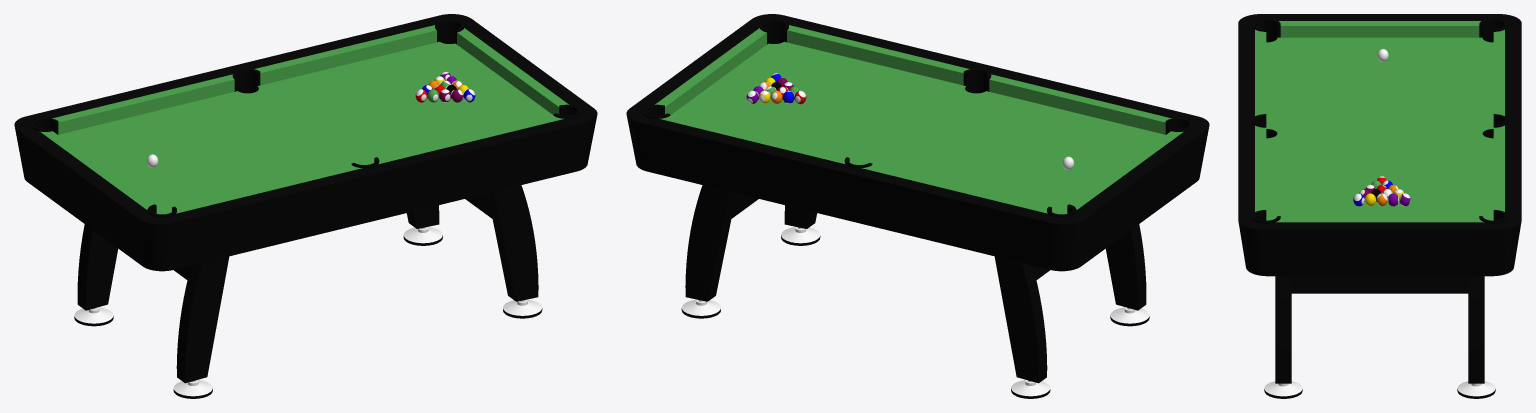
The model's file is pool-table-6ft.glb.
The picture shows the model from 3 angles, left to right: view 1: azimuth 30°, elevation 25°; view 2: azimuth 150°, elevation 25°; view 3: azimuth 270°, elevation 25°; orthographic projection. The views are drawn at different scales.
Visible parts, largest first — view 1: Mesh45 Group1 Model, Mesh3 Group3 Group1 Model, Mesh7 Group5 Group1 Model, Mesh1 Group2 Group1 Model, Mesh18 patte2 Group1 Model, Mesh36 patte4 Group1 Model, Mesh27 patte3 Group1 Model, Mesh9 patte1 Group1 Model, Mesh5 Group4 Group1 Model; view 2: Mesh45 Group1 Model, Mesh1 Group2 Group1 Model, Mesh5 Group4 Group1 Model, Mesh3 Group3 Group1 Model, Mesh36 patte4 Group1 Model, Mesh18 patte2 Group1 Model, Mesh9 patte1 Group1 Model, Mesh27 patte3 Group1 Model, Mesh7 Group5 Group1 Model; view 3: Mesh45 Group1 Model, Mesh46 Group1 Model, Mesh5 Group4 Group1 Model, Mesh7 Group5 Group1 Model, Mesh18 patte2 Group1 Model, Mesh36 patte4 Group1 Model.
Part boxes in pixels (x1=…): Mesh45 Group1 Model: x1=14, y1=14, x2=597, y2=271; Mesh3 Group3 Group1 Model: x1=176, y1=256, x2=229, y2=383; Mesh7 Group5 Group1 Model: x1=487, y1=185, x2=538, y2=301; Mesh1 Group2 Group1 Model: x1=77, y1=224, x2=118, y2=310; Mesh18 patte2 Group1 Model: x1=503, y1=299, x2=542, y2=318; Mesh36 patte4 Group1 Model: x1=403, y1=227, x2=442, y2=245; Mesh27 patte3 Group1 Model: x1=74, y1=307, x2=113, y2=326; Mesh9 patte1 Group1 Model: x1=173, y1=380, x2=212, y2=398; Mesh5 Group4 Group1 Model: x1=406, y1=205, x2=439, y2=228; Mesh45 Group1 Model: x1=626, y1=14, x2=1209, y2=271; Mesh1 Group2 Group1 Model: x1=994, y1=256, x2=1047, y2=383; Mesh5 Group4 Group1 Model: x1=685, y1=185, x2=736, y2=301; Mesh3 Group3 Group1 Model: x1=1106, y1=224, x2=1146, y2=310; Mesh36 patte4 Group1 Model: x1=681, y1=299, x2=720, y2=318; Mesh18 patte2 Group1 Model: x1=781, y1=227, x2=820, y2=245; Mesh9 patte1 Group1 Model: x1=1110, y1=307, x2=1149, y2=326; Mesh27 patte3 Group1 Model: x1=1011, y1=380, x2=1050, y2=398; Mesh7 Group5 Group1 Model: x1=784, y1=205, x2=817, y2=228; Mesh45 Group1 Model: x1=1238, y1=14, x2=1521, y2=276; Mesh46 Group1 Model: x1=1291, y1=276, x2=1468, y2=293; Mesh5 Group4 Group1 Model: x1=1468, y1=276, x2=1484, y2=383; Mesh7 Group5 Group1 Model: x1=1275, y1=276, x2=1291, y2=383; Mesh18 patte2 Group1 Model: x1=1264, y1=381, x2=1302, y2=398; Mesh36 patte4 Group1 Model: x1=1457, y1=381, x2=1495, y2=398.
Bounding box in the file's own units: 1.93 × 0.8001 × 1.07.
